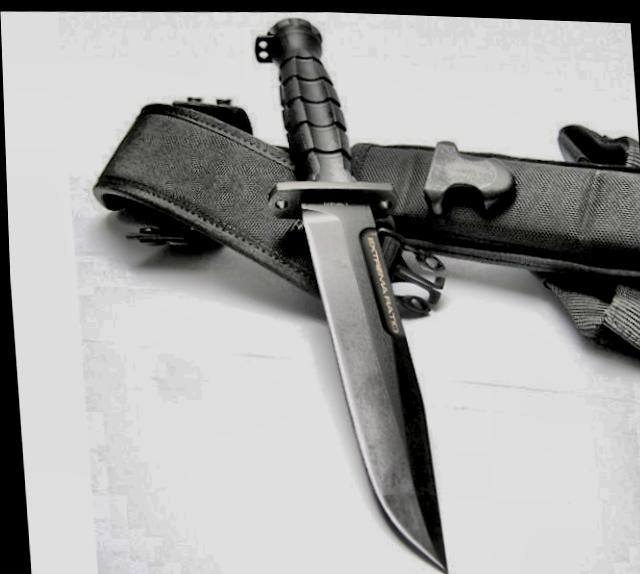knife: (295, 185, 451, 574)
